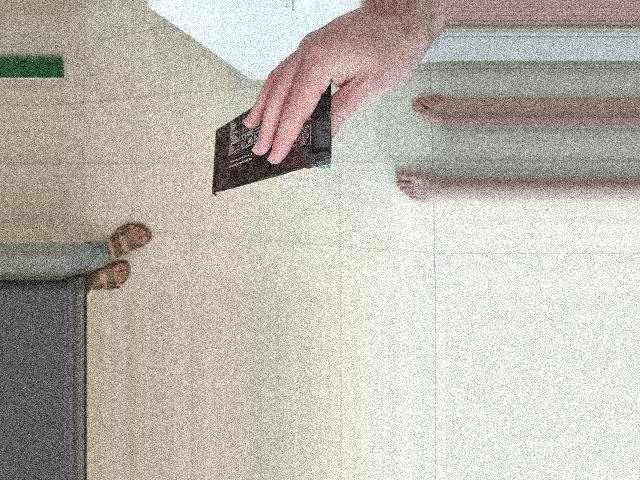chocolate: (158, 146, 291, 279)
